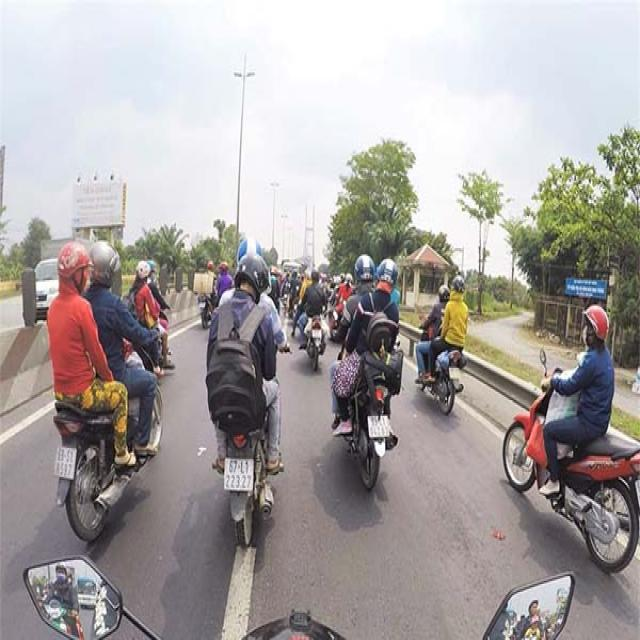1-2-helmet: (56, 241, 94, 279)
